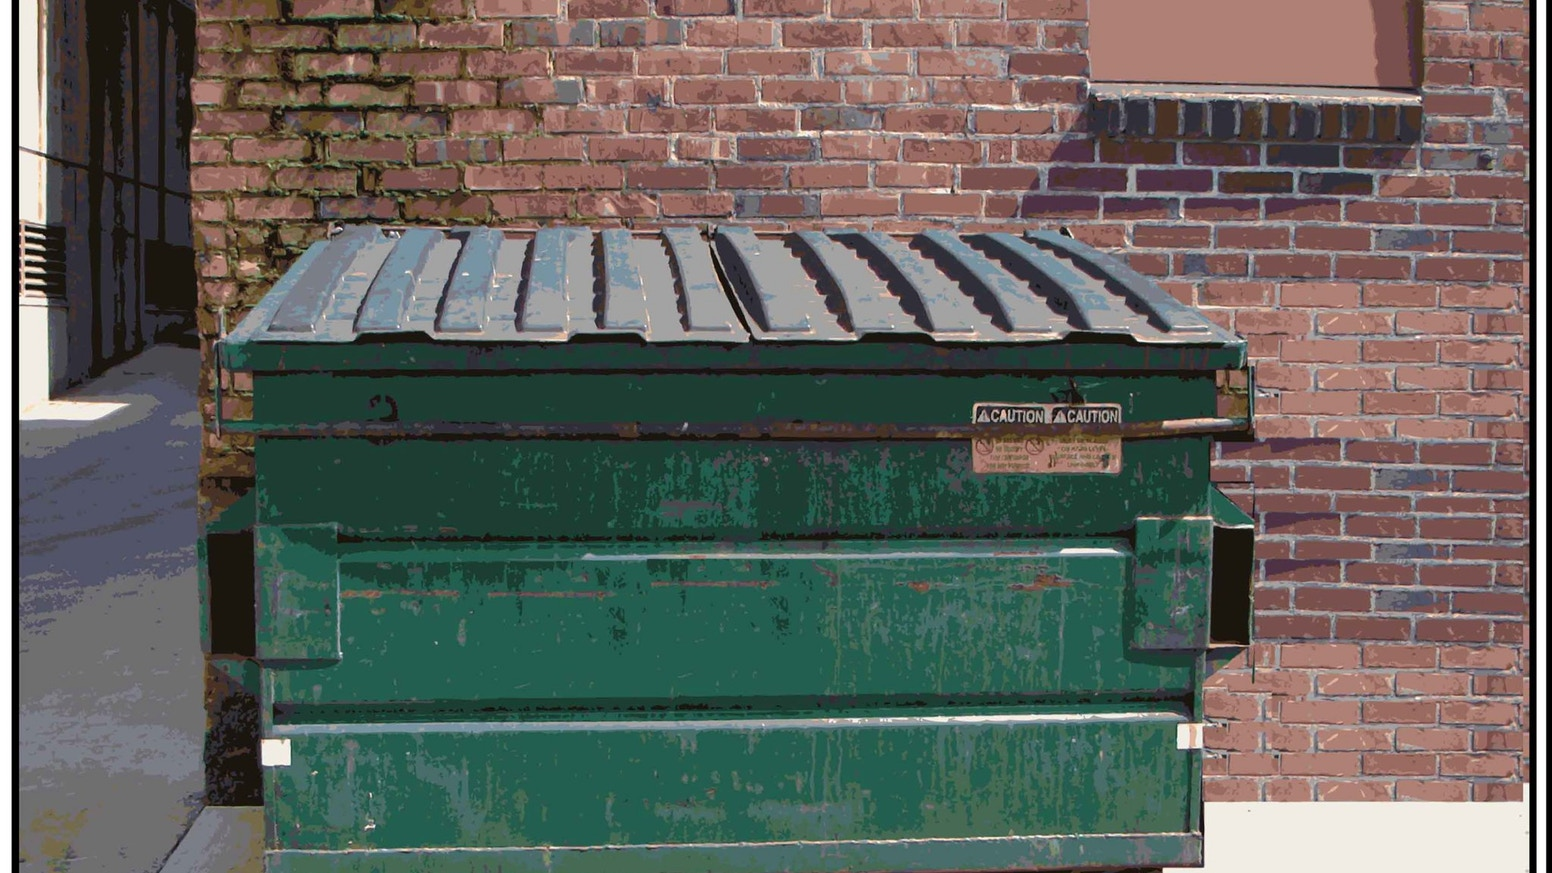Dumpster: (167, 203, 1290, 873)
